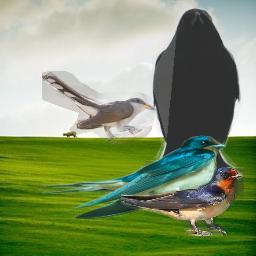Crow: (145, 8, 244, 212)
Cuckoo: (42, 71, 156, 144)
Swallow: (37, 135, 226, 220), (121, 167, 243, 236)
